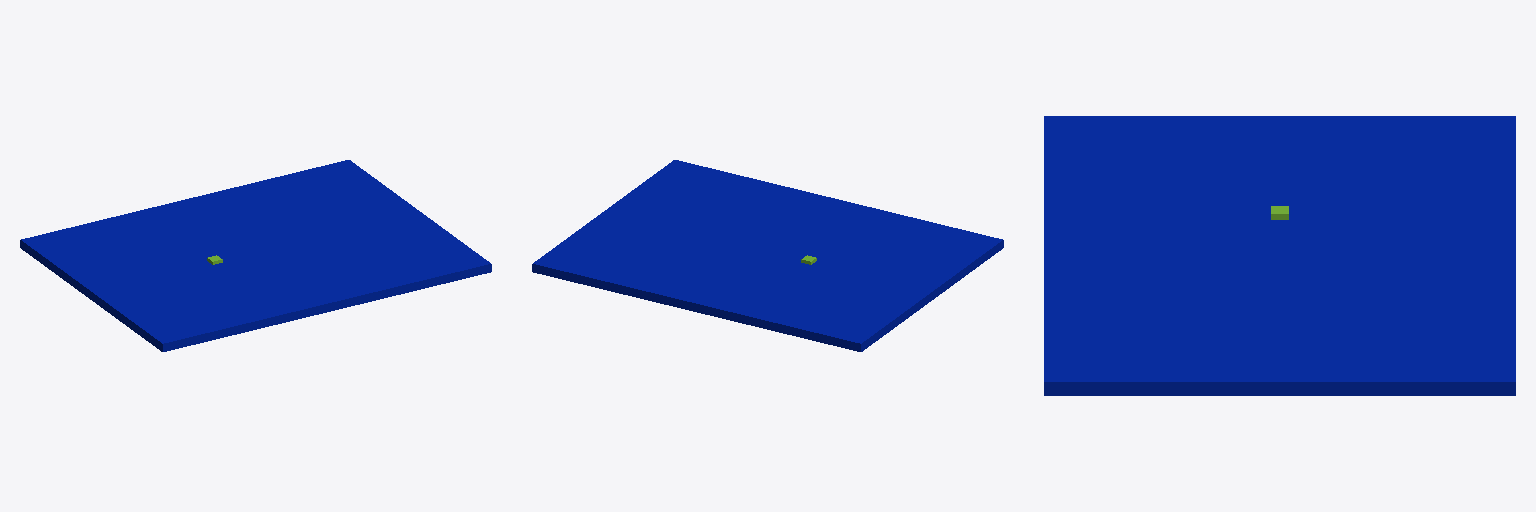
URDF robot description (box2d):
<?xml version="1.0" ?>
<robot name="box2d">

  <link name="floor">
    <visual>
      <origin xyz=".5 0 -0.05"/>
      <geometry>
        <box size="4 3 0.1"/>
      </geometry>
      <material name="purple">
        <color rgba=" .04 .2 .7 .9"/>
      </material>
    </visual>
  </link>

  <link name="box">
  <visual>
    <geometry>
      <box size=".12 .12 .075"/>
    </geometry>
    <material name="green">
      <color rgba=".5 0.75 .25 .8"/>
    </material>
  </visual>
  <!-- <inertial>
    <mass value=".165"/>
    <inertia ixx=".1" iyy=".1" izz=".1" ixy="0." ixz="0." iyz="0."/>
  </inertial> -->
  <!-- contact points -->
  <!-- <visual>
    <origin xyz="-.06 0. -.0375"/>
    <geometry>
      <sphere radius=".015"/>
    </geometry>
    <material name="yellow">
      <color rgba=".9 .9 .2 1."/>
    </material>
  </visual>
  <collision>
    <origin xyz="-.06 0. -.0375"/>
    <geometry>
      <sphere radius="0"/>
    </geometry>
  </collision>
  <visual>
    <origin xyz=".06 0. -.0375"/>
    <geometry>
      <sphere radius=".015"/>
    </geometry>
    <material name="yellow">
      <color rgba=".9 .9 .2 1."/>
    </material>
  </visual>
  <collision>
    <origin xyz=".06 0. -.0375"/>
    <geometry>
      <sphere radius="0"/>
    </geometry>
  </collision> -->
  <inertial>
    <mass value=".165"/>
    <inertia ixx="100." iyy="100." izz="100." ixy="0." ixz="0." iyz="0."/>
  </inertial>
  <visual>
    <origin xyz="0. 0. -.0375"/>
    <geometry>
      <sphere radius=".015"/>
    </geometry>
    <material name="yellow">
      <color rgba=".9 .9 .2 1."/>
    </material>
  </visual>
  <collision>
    <origin xyz="0. 0. -.0375"/>
    <geometry>
      <sphere radius="0"/>
    </geometry>
  </collision>
  </link>

  <joint name="floor_to_box" type="planar">
    <parent link="floor"/>
    <child link="box"/>
    <origin xyz="0 0 0"/>
    <axis xyz="0 1 0"/>
  </joint>

</robot>

--- Render facts (derived) ---
3 views of the same robot in one strip: view 1: azimuth 30°, elevation 25°; view 2: azimuth 150°, elevation 25°; view 3: azimuth 270°, elevation 25° (orthographic).
Robot: box2d — 2 links, 1 joints (1 planar); root link floor; default pose: every joint at zero.
Links seen in each view (by area): view 1: floor; view 2: floor; view 3: floor.
Boxes of the visible links, left/top/right/bottom form: floor: left=20, top=160, right=491, bottom=351; floor: left=532, top=160, right=1003, bottom=351; floor: left=1044, top=116, right=1515, bottom=395.
Size in the robot's own frame: 4 by 3 by 0.1375 metres.
Geometry: primitives only (box / cylinder / sphere), no mesh files.